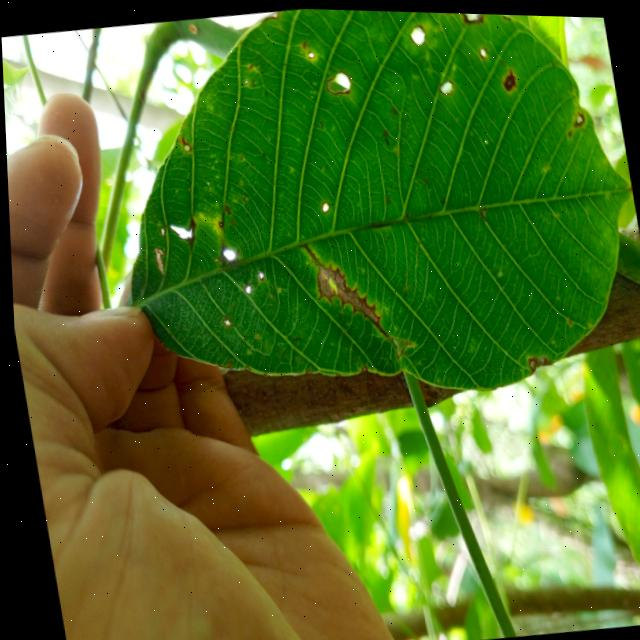Colletotrichum: (436, 77, 452, 93), (317, 198, 328, 211), (305, 49, 314, 58), (180, 143, 189, 152), (214, 219, 220, 225)
Corynespora: (299, 233, 386, 343)
